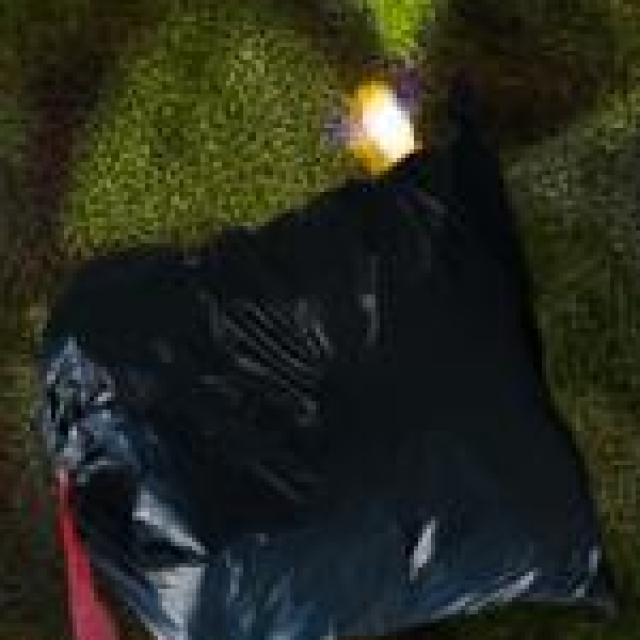Trashbag: (33, 85, 621, 640)
